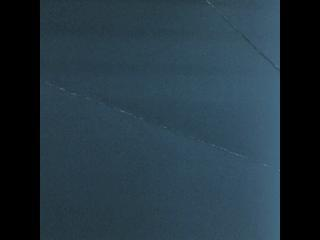crack: (41, 80, 280, 174), (206, 0, 280, 74)
